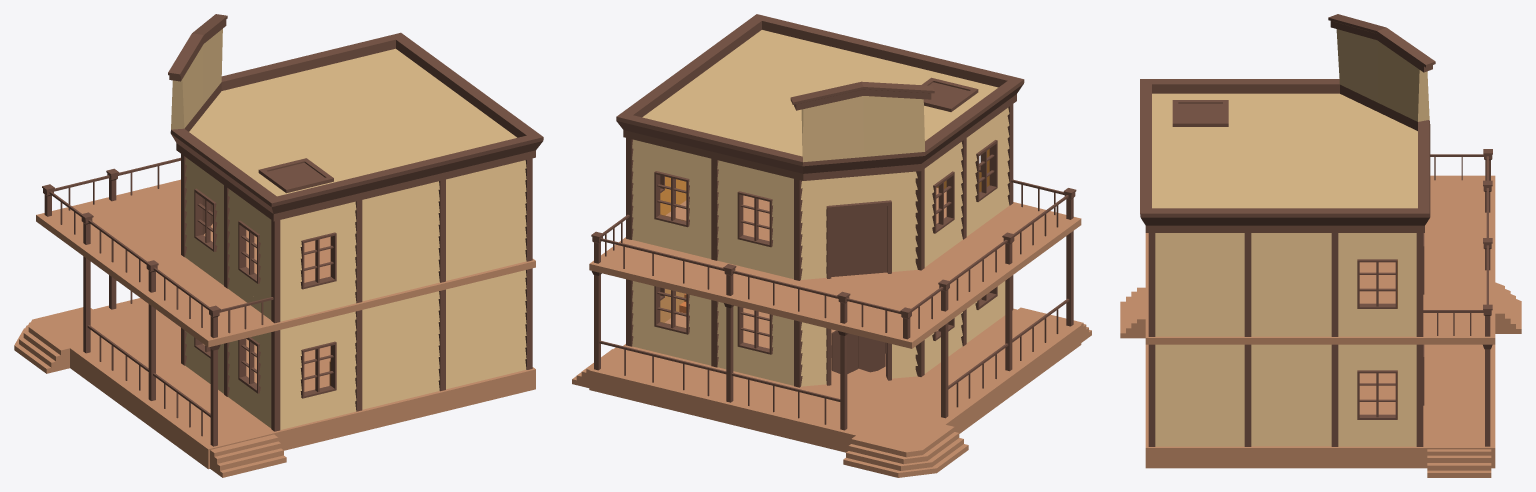
The model's file is Saloon.glb.
The picture shows the model from 3 angles, left to right: view 1: azimuth 30°, elevation 25°; view 2: azimuth 150°, elevation 25°; view 3: azimuth 270°, elevation 25°; orthographic projection. The views are drawn at different scales.
Parts seen in each view (by area): view 1: Teto, OldalLec, Talaj, AblakosOldalLec, Emelet, KulsoKorlat, Ablak, KulsoEsOszlopok.001, KulsoEsOszlopok; view 2: Teto, Talaj, AblakosOldalLec, Emelet, KulsoKorlat, Bejarat, Ablak, KulsoEsOszlopok.001, FentiAjto, KulsoEsOszlopok, Ajto; view 3: Teto, OldalLec, Talaj, Emelet, AblakosOldalLec, KulsoEsOszlopok.001, KulsoEsOszlopok, KulsoKorlat, Ablak.
Part boxes in pixels (bbox=[...]): Teto: bbox=[168, 14, 543, 221]; OldalLec: bbox=[362, 160, 526, 409]; Talaj: bbox=[14, 298, 535, 477]; AblakosOldalLec: bbox=[185, 158, 356, 429]; Emelet: bbox=[36, 179, 535, 347]; KulsoKorlat: bbox=[42, 157, 273, 446]; Ablak: bbox=[194, 188, 336, 398]; KulsoEsOszlopok.001: bbox=[181, 154, 532, 323]; KulsoEsOszlopok: bbox=[181, 268, 532, 431]; Teto: bbox=[616, 14, 1024, 180]; Talaj: bbox=[572, 307, 1091, 477]; AblakosOldalLec: bbox=[632, 108, 1009, 385]; Emelet: bbox=[589, 187, 1081, 348]; KulsoKorlat: bbox=[591, 179, 1076, 430]; Bejarat: bbox=[801, 171, 917, 386]; Ablak: bbox=[654, 140, 997, 354]; KulsoEsOszlopok.001: bbox=[626, 104, 1013, 280]; FentiAjto: bbox=[826, 200, 891, 278]; KulsoEsOszlopok: bbox=[626, 275, 1013, 387]; Ajto: bbox=[826, 328, 891, 385]; Teto: bbox=[1140, 14, 1435, 232]; OldalLec: bbox=[1155, 233, 1331, 446]; Talaj: bbox=[1120, 282, 1521, 477]; Emelet: bbox=[1145, 175, 1495, 344]; AblakosOldalLec: bbox=[1338, 233, 1416, 446]; KulsoEsOszlopok.001: bbox=[1148, 233, 1423, 336]; KulsoEsOszlopok: bbox=[1148, 344, 1423, 446]; KulsoKorlat: bbox=[1423, 149, 1492, 446]; Ablak: bbox=[1357, 233, 1424, 419].
Bounding box in the file's own units: 5.82 × 4.86 × 5.37.
